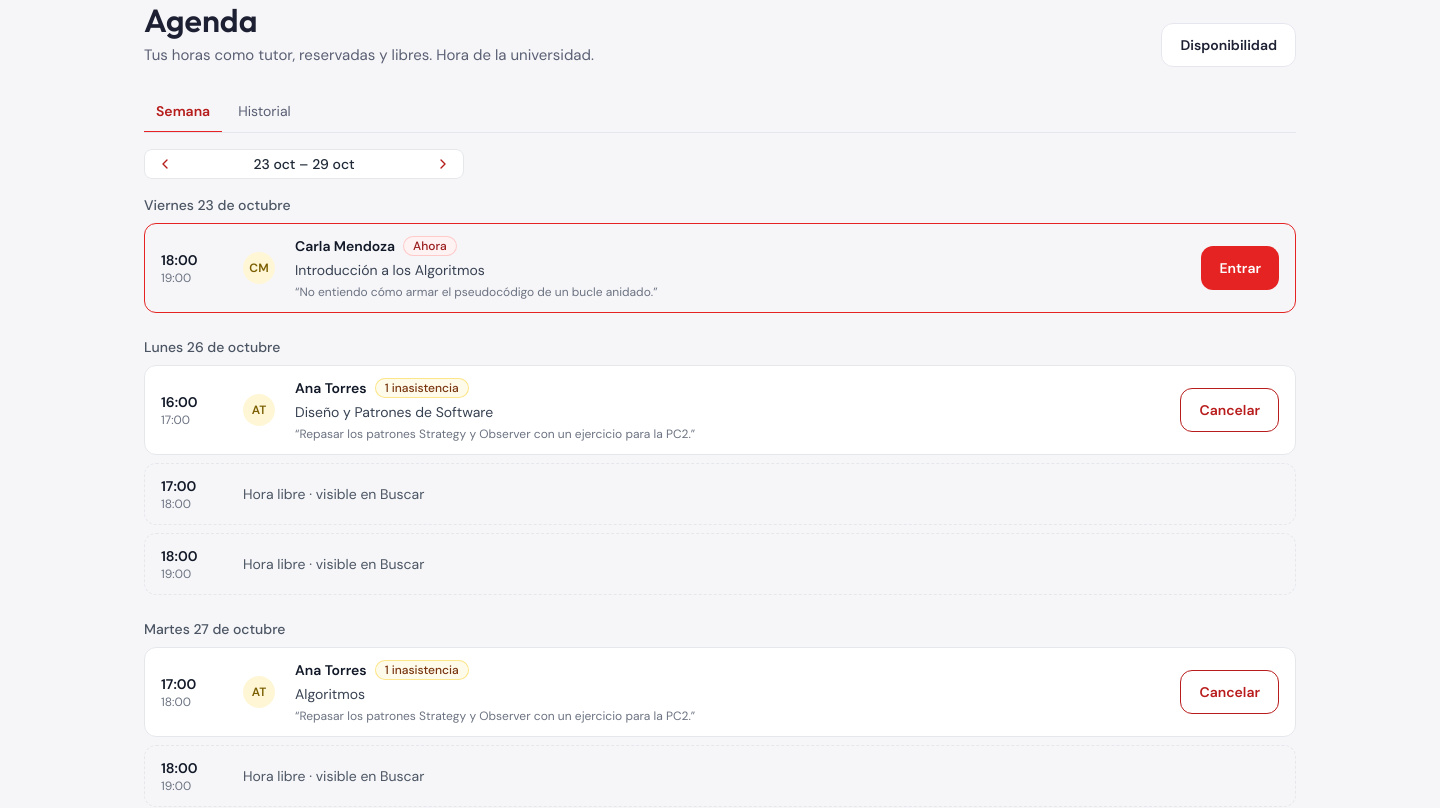
FE-41 tutor agenda › closes the late warning when the confirmed cancellation is refused too
This screenshot has width=1440, height=808.
Click the button "Cancelar" in the row of "Diseño y Patrones de Software". click: (1230,410)
box: [1180, 388, 1279, 432]
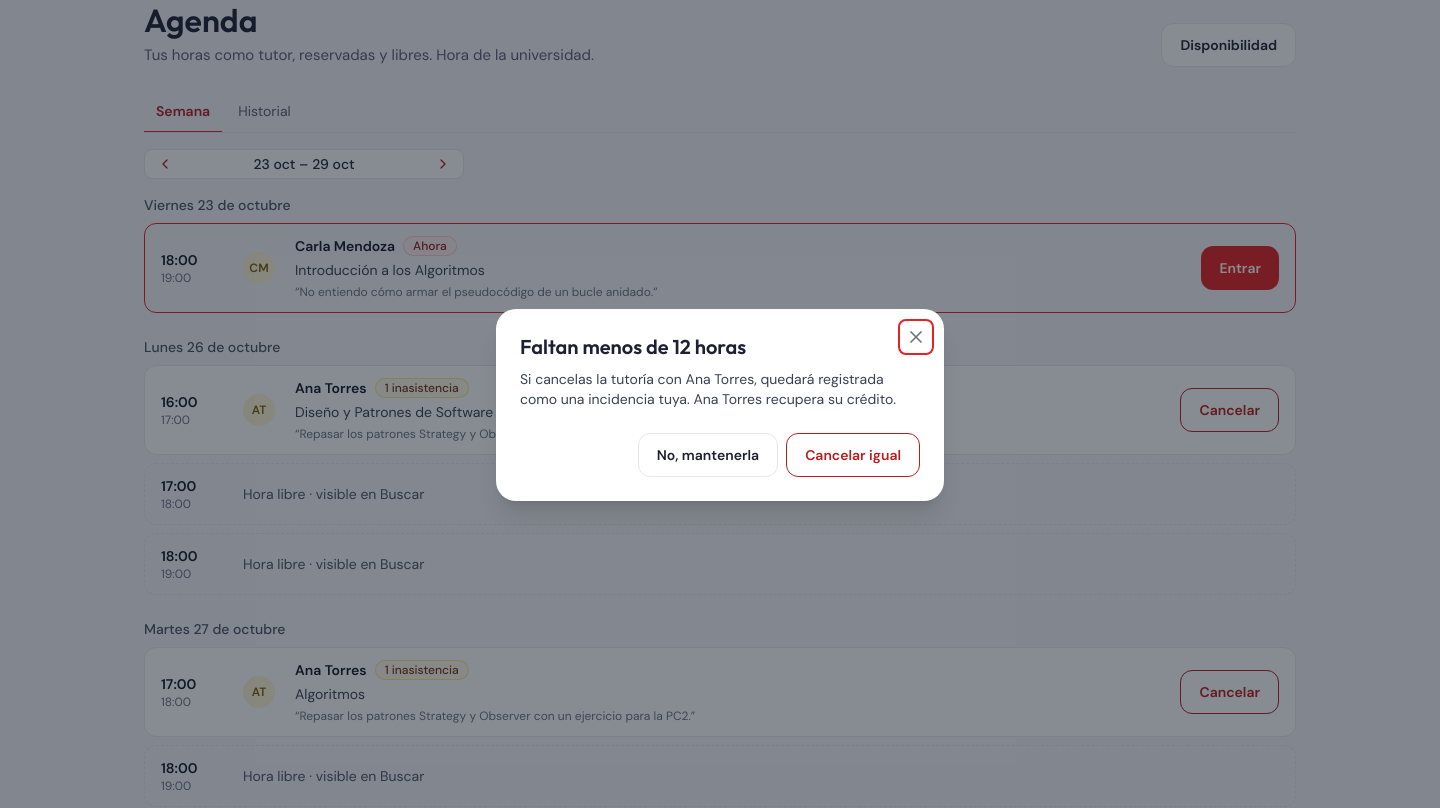
Click the button "Cancelar igual". click: (853,455)
box: [786, 433, 920, 477]
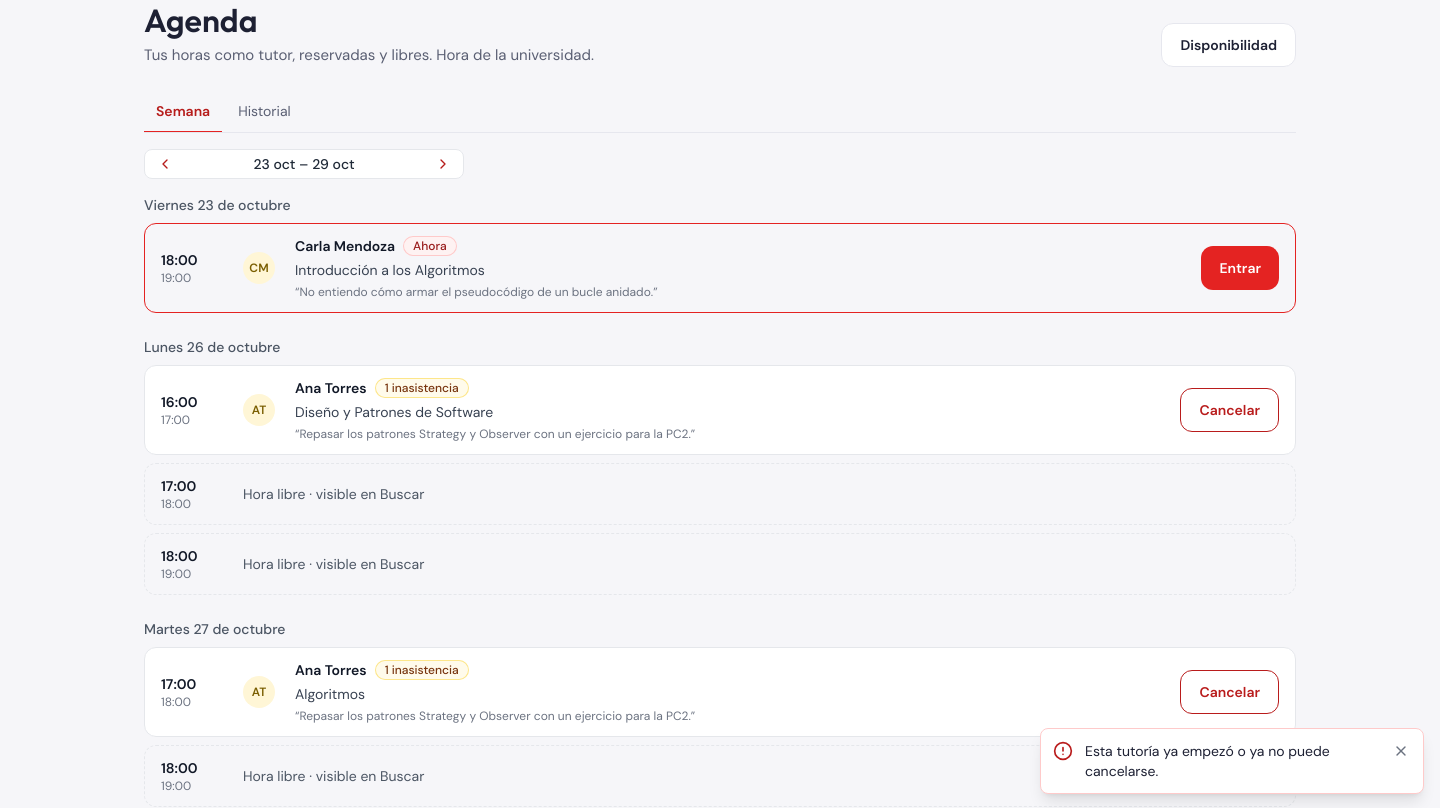
Check: the text "Esta tutoría ya empezó o ya no puede cancelarse." is shown, box [1085, 742, 1330, 780]
Check: the dialog is gone
